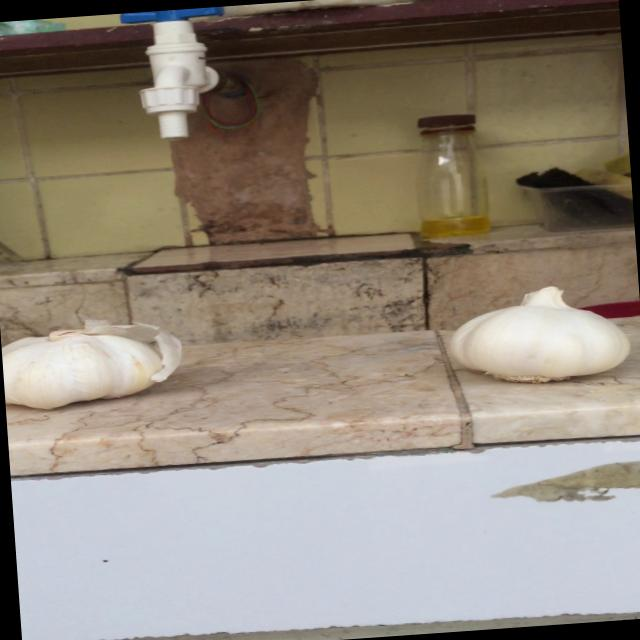bawang: (435, 277, 640, 393), (0, 305, 190, 415)
